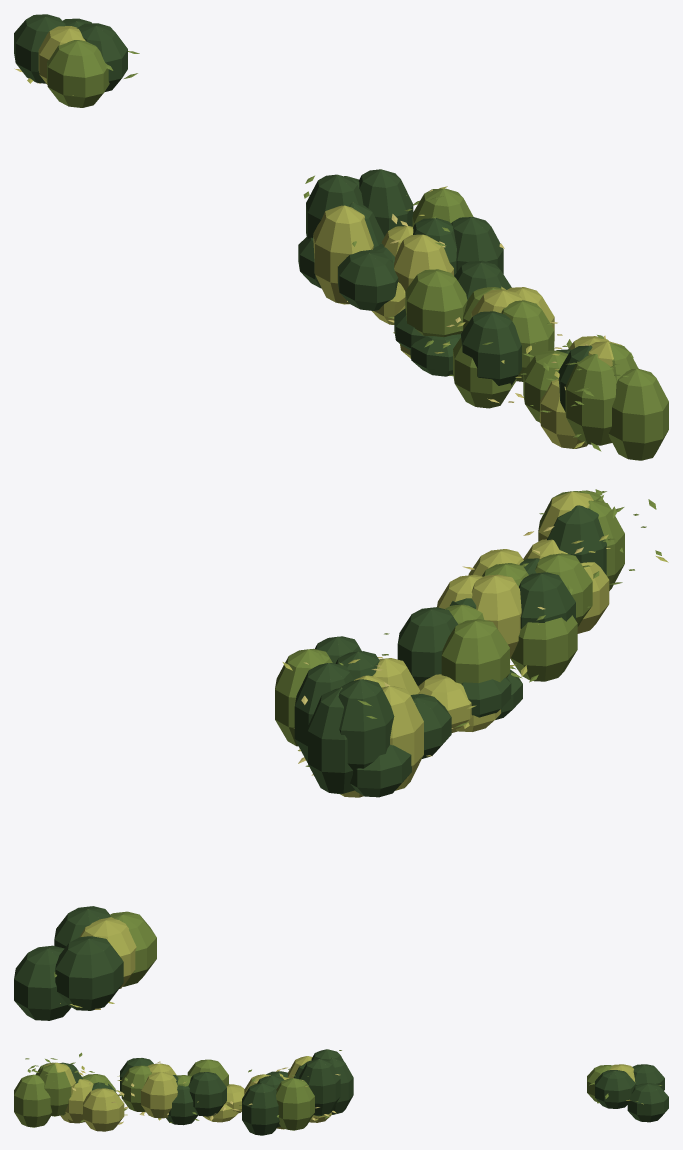
File: Garden_LeafyHedge_02.obj
3 views of the same model, one above another, from view 1: azimuth 30°, elevation 25°; view 2: azimuth 150°, elevation 25°; view 3: azimuth 270°, elevation 25° (orthographic). The views are drawn at different scales.
Parts seen in each view (by area): view 1: Garden_LeafyHedge_02; view 2: Garden_LeafyHedge_02; view 3: Garden_LeafyHedge_02.
Boxes of the visible parts, left/top/right/bottom form: Garden_LeafyHedge_02: left=14, top=14, right=668, bottom=460; Garden_LeafyHedge_02: left=14, top=489, right=668, bottom=1020; Garden_LeafyHedge_02: left=14, top=1049, right=668, bottom=1135.
Size of the model in its own units: 2.94 by 2.31 by 19.07.
1 material, 1 textured.
